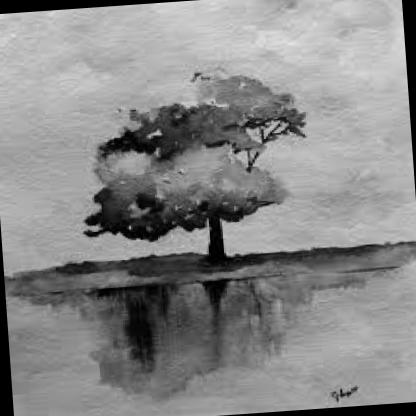crown_cloud: (76, 62, 316, 238)
root_none: (196, 246, 245, 266)
trunk_straight: (203, 230, 232, 251)
